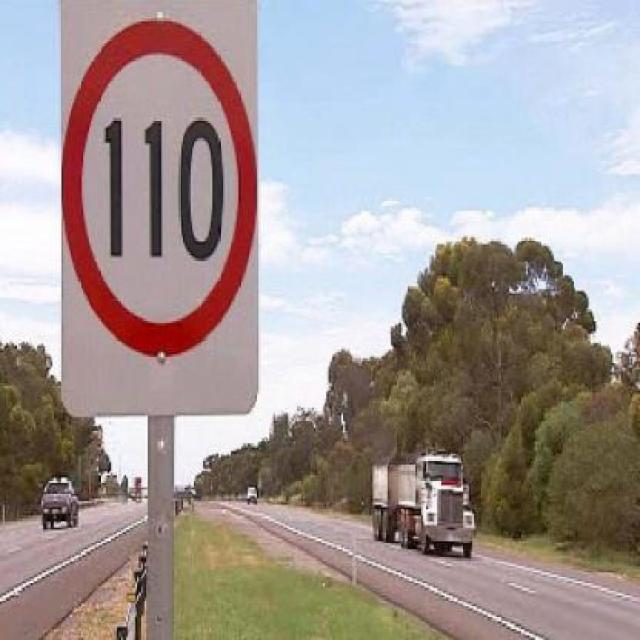speed limit 110: (59, 19, 259, 356)
